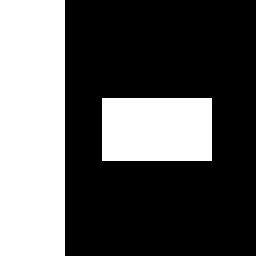rumex: (0, 0, 64, 256), (102, 98, 211, 160)
